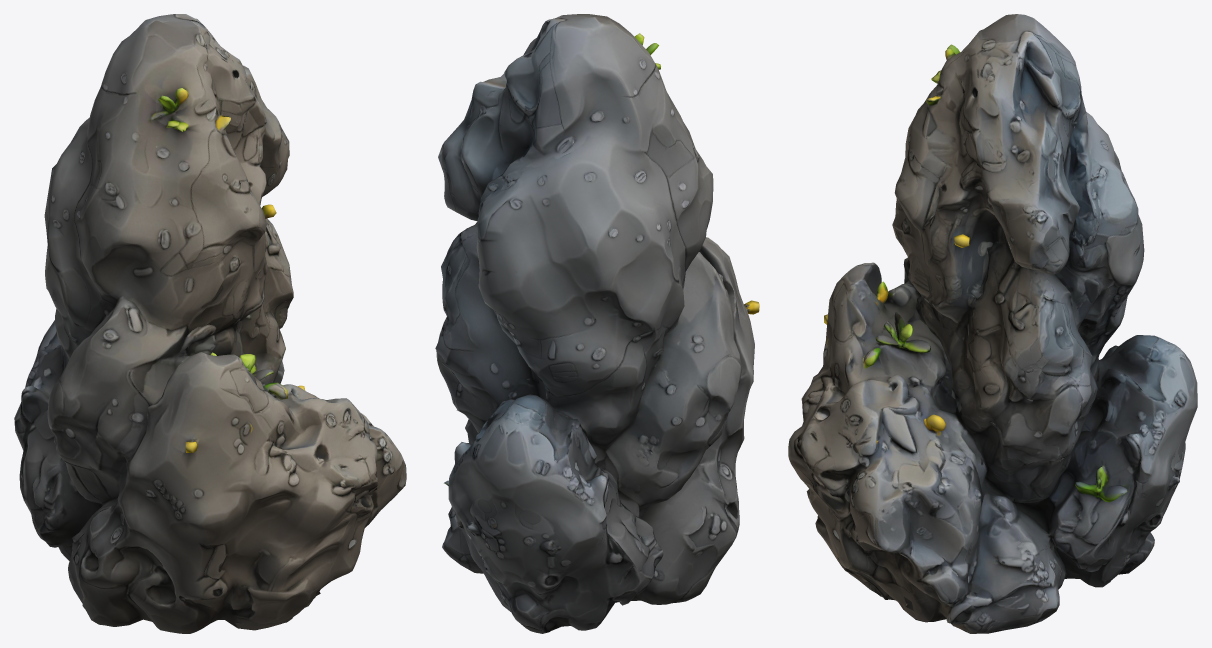
The model's file is stone_1.glb.
The picture shows the model from 3 angles, left to right: view 1: azimuth 30°, elevation 25°; view 2: azimuth 150°, elevation 25°; view 3: azimuth 270°, elevation 25°; orthographic projection. The views are drawn at different scales.
Parts seen in each view (by area): view 1: tripo_node_68dcc19d-31ce-43b0-9b04-b6b5ff819da0; view 2: tripo_node_68dcc19d-31ce-43b0-9b04-b6b5ff819da0; view 3: tripo_node_68dcc19d-31ce-43b0-9b04-b6b5ff819da0.
Boxes of the visible parts, box(x1,y1,x2,y2) form: tripo_node_68dcc19d-31ce-43b0-9b04-b6b5ff819da0: box(14, 14, 406, 633); tripo_node_68dcc19d-31ce-43b0-9b04-b6b5ff819da0: box(435, 14, 759, 633); tripo_node_68dcc19d-31ce-43b0-9b04-b6b5ff819da0: box(788, 14, 1197, 633).
Bounding box in the file's own units: 0.5445 × 0.9776 × 0.6519.
1 material, 1 textured.
